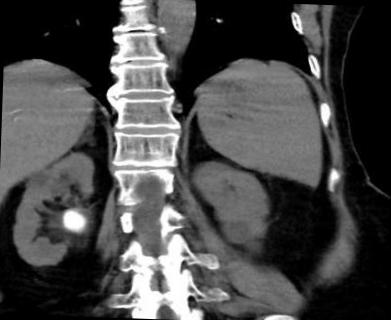Tas_Var: (56, 204, 88, 236)
